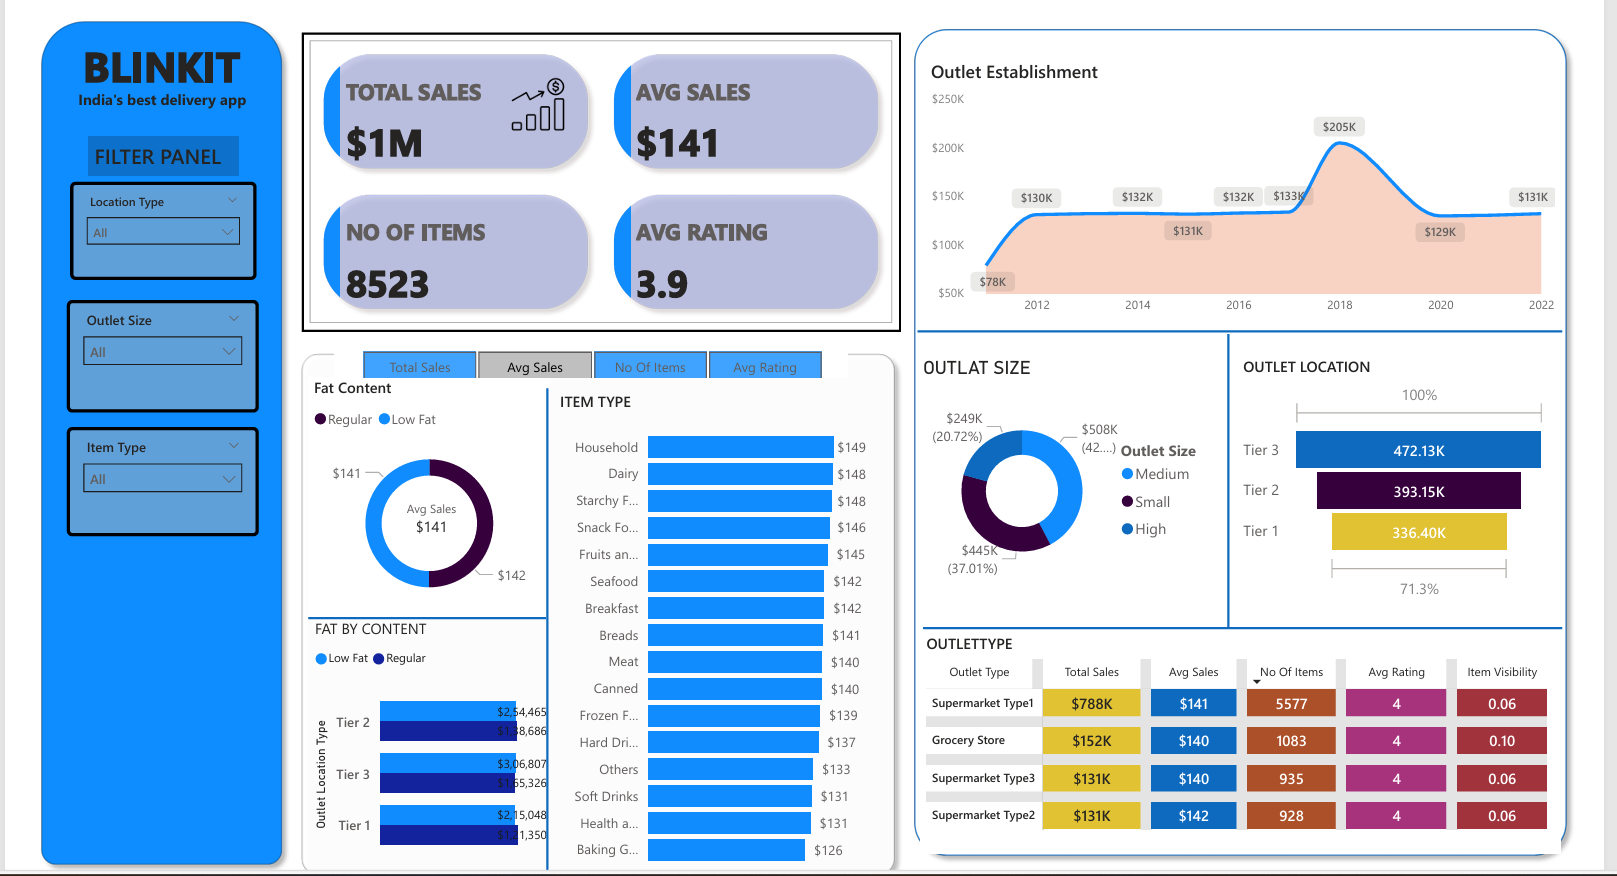

The dashboard page shown, as its layout file describes it:
{"tool":"powerbi","page":{"name":"Page 1","canvas":[1400,800],"ordinal":0},"visuals":[{"type":"shape","box":[0,0,235.9,781.2],"z":0},{"type":"textbox","box":[31.4,19.1,173.1,60],"z":1000},{"type":"textbox","box":[36.6,66.2,163.4,32.4],"z":2000},{"type":"cardVisual","fields":{"Data":["BlinkIT Grocery Data.Total Sales","BlinkIT Grocery Data.Avg Sales","BlinkIT Grocery Data.No Of Items","BlinkIT Grocery Data.Avg Rating"]},"box":[235.9,19.1,541.2,269.9],"z":3000},{"type":"shape","box":[236.4,301.1,554.5,488.6],"z":4000},{"type":"donutChart","title":"Fat Content","fields":{"Y":["BlinkIT Grocery Data.Total Sales"],"Category":["BlinkIT Grocery Data.Item Fat Content"]},"box":[250.9,331.3,219.5,218.1],"z":5000},{"type":"slicer","fields":{"Values":["Metrics.Metrics"]},"box":[275.4,301.3,464.9,30],"z":6000},{"type":"cardVisual","fields":{"Data":["BlinkIT Grocery Data.Total Sales"]},"box":[315.9,426.1,93.2,61.4],"z":7000},{"type":"clusteredBarChart","title":"FAT BY CONTENT","fields":{"Y":["BlinkIT Grocery Data.Total Sales"],"Category":["BlinkIT Grocery Data.Outlet Location Type"],"Series":["BlinkIT Grocery Data.Item Fat Content"]},"box":[252.2,549.4,219.5,230.4],"z":8000},{"type":"shape","box":[250.9,542.6,215.4,12.3],"z":9000},{"type":"shape","box":[460.8,340.8,13.6,444.4],"z":10000},{"type":"barChart","title":"ITEM TYPE","fields":{"Y":["BlinkIT Grocery Data.Total Sales"],"Category":["BlinkIT Grocery Data.Item Type"]},"box":[474.4,343.6,286.3,439],"z":11000},{"type":"shape","box":[791,7.5,609,765.7],"z":12000},{"type":"lineChart","title":"Outlet Establishment ","fields":{"Category":["BlinkIT Grocery Data.Outlet Establishment Year"],"Y":["BlinkIT Grocery Data.Total Sales"]},"box":[810.4,43.3,574.6,238.8],"z":13000},{"type":"donutChart","title":"OUTLAT SIZE","fields":{"Category":["BlinkIT Grocery Data.Outlet Size"],"Y":["BlinkIT Grocery Data.Total Sales"]},"box":[803,312.2,275.4,225],"z":14000},{"type":"funnel","title":"OUTLET LOCATION","fields":{"Category":["BlinkIT Grocery Data.Outlet Location Type"],"Y":["Sum(BlinkIT Grocery Data.Sales)"]},"box":[1093.4,312.2,284.9,225],"z":15000},{"type":"pivotTable","title":"OUTLETTYPE","fields":{"Rows":["BlinkIT Grocery Data.Outlet Type"],"Values":["BlinkIT Grocery Data.Total Sales","BlinkIT Grocery Data.Avg Sales","BlinkIT Grocery Data.No Of Items","BlinkIT Grocery Data.Avg Rating","Avg(BlinkIT Grocery Data.Item Visibility)"]},"box":[805.6,562.5,580.6,200],"z":16000},{"type":"slicer","fields":{"Values":["BlinkIT Grocery Data.Outlet Location Type"]},"box":[34.7,154.2,169.4,88.9],"z":17000},{"type":"slicer","fields":{"Values":["BlinkIT Grocery Data.Outlet Size"]},"box":[31.9,261.1,173.6,101.4],"z":18000},{"type":"slicer","fields":{"Values":["BlinkIT Grocery Data.Item Type"]},"box":[31.9,376.4,173.6,98.6],"z":19000},{"type":"textbox","box":[51.8,113.2,136.3,35.4],"z":20000},{"type":"shape","box":[803,282.2,583.5,15],"z":21000},{"type":"shape","box":[1078.4,291.8,12.3,265.9],"z":22000},{"type":"cardVisual","fields":{"Data":["BlinkIT Grocery Data.Total Sales","BlinkIT Grocery Data.Avg Sales","BlinkIT Grocery Data.No Of Items","BlinkIT Grocery Data.Avg Rating"]},"box":[244.8,19.4,543.3,270.1],"z":23000},{"type":"shape","box":[808.5,552.2,578.1,12.3],"z":24000}]}

Visuals, with their boxes in screenshot pixels (x1, y1, x2, y2):
shape: detection(13, 0, 277, 874)
textbox: detection(48, 21, 242, 89)
textbox: detection(54, 74, 237, 110)
cardVisual - BlinkIT Grocery Data.Total Sales x BlinkIT Grocery Data.Avg Sales: detection(277, 21, 883, 324)
shape: detection(277, 337, 898, 875)
"Fat Content" donutChart: detection(293, 371, 539, 615)
slicer - Metrics.Metrics: detection(321, 337, 841, 371)
cardVisual - BlinkIT Grocery Data.Total Sales: detection(366, 477, 471, 546)
"FAT BY CONTENT" clusteredBarChart: detection(295, 615, 541, 873)
shape: detection(293, 607, 535, 621)
shape: detection(528, 381, 544, 875)
"ITEM TYPE" barChart: detection(544, 385, 864, 875)
shape: detection(898, 8, 1580, 866)
"Outlet Establishment " lineChart: detection(920, 48, 1563, 316)
"OUTLAT SIZE" donutChart: detection(912, 349, 1220, 601)
"OUTLET LOCATION" funnel: detection(1237, 349, 1555, 601)
"OUTLETTYPE" pivotTable: detection(914, 630, 1564, 854)
slicer - BlinkIT Grocery Data.Outlet Location Type: detection(51, 173, 241, 272)
slicer - BlinkIT Grocery Data.Outlet Size: detection(48, 292, 243, 406)
slicer - BlinkIT Grocery Data.Item Type: detection(48, 421, 243, 532)
textbox: detection(71, 127, 223, 166)
shape: detection(912, 316, 1565, 333)
shape: detection(1220, 327, 1234, 624)
cardVisual - BlinkIT Grocery Data.Total Sales x BlinkIT Grocery Data.Avg Sales: detection(287, 22, 895, 324)
shape: detection(918, 618, 1565, 632)
